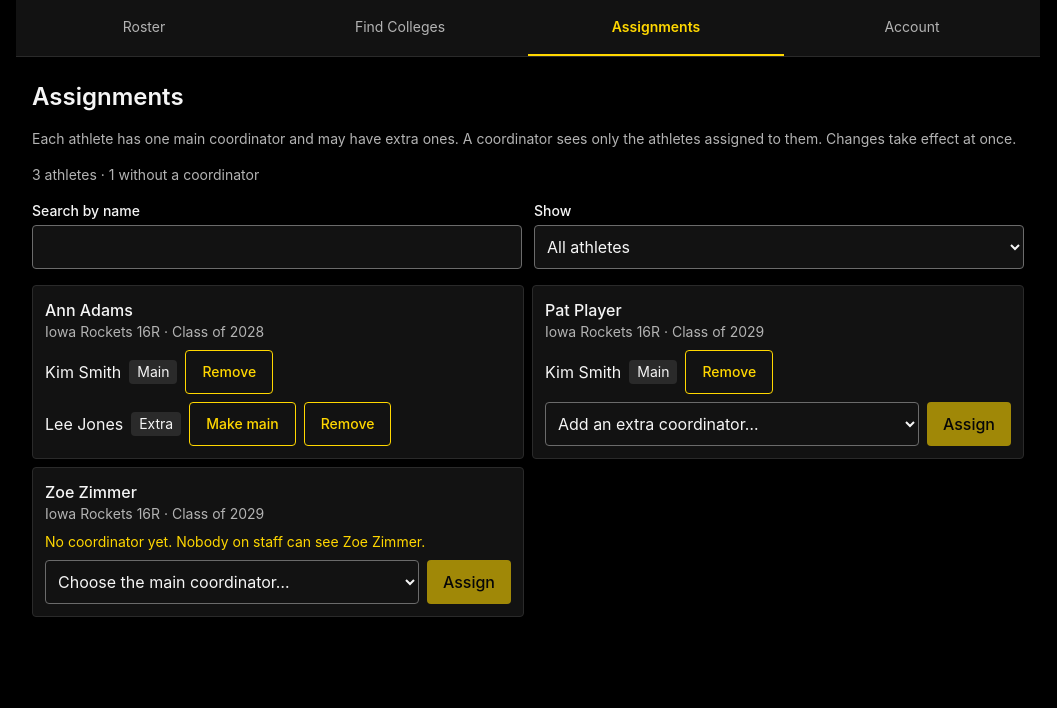
Test: Assignments (administrator) › shows a friendly message when the database refuses, and leaves the screen as it was
expect the list named "Athletes" is shown: met, box x1=32 y1=285 x2=1024 y2=617
Select "Kim Smith" in the dropdown named "Add a coordinator for Zoe Zimmer": (232, 582) x1=45 y1=560 x2=419 y2=604
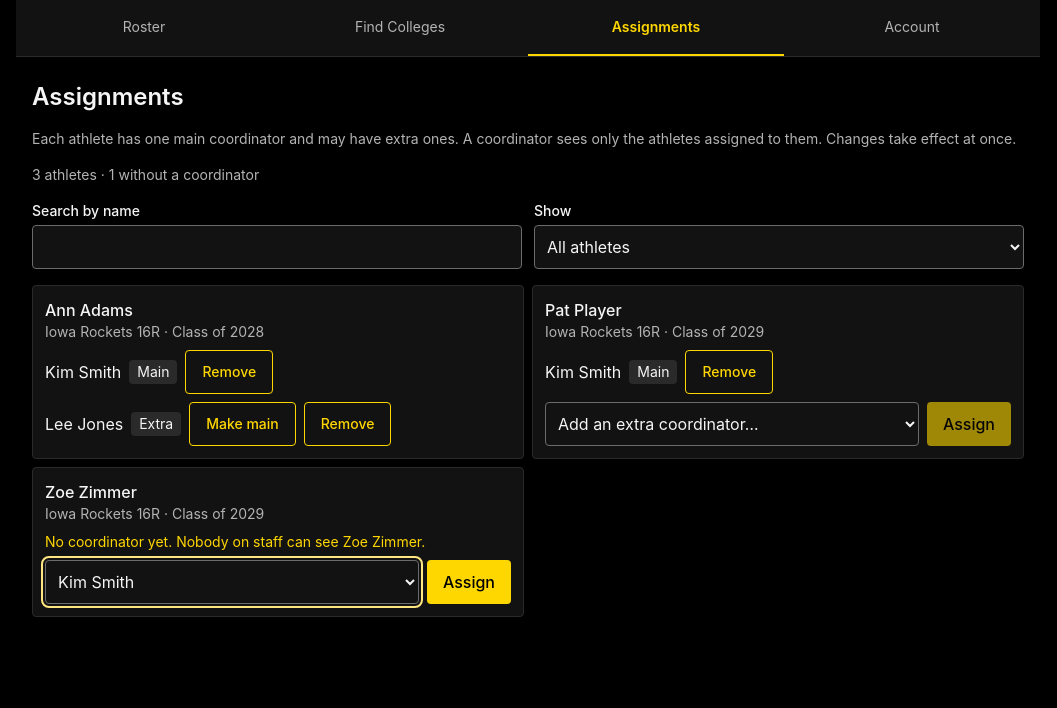
Click the button with aria-label "Assign to Zoe Zimmer": (469, 582) x1=427 y1=560 x2=511 y2=604
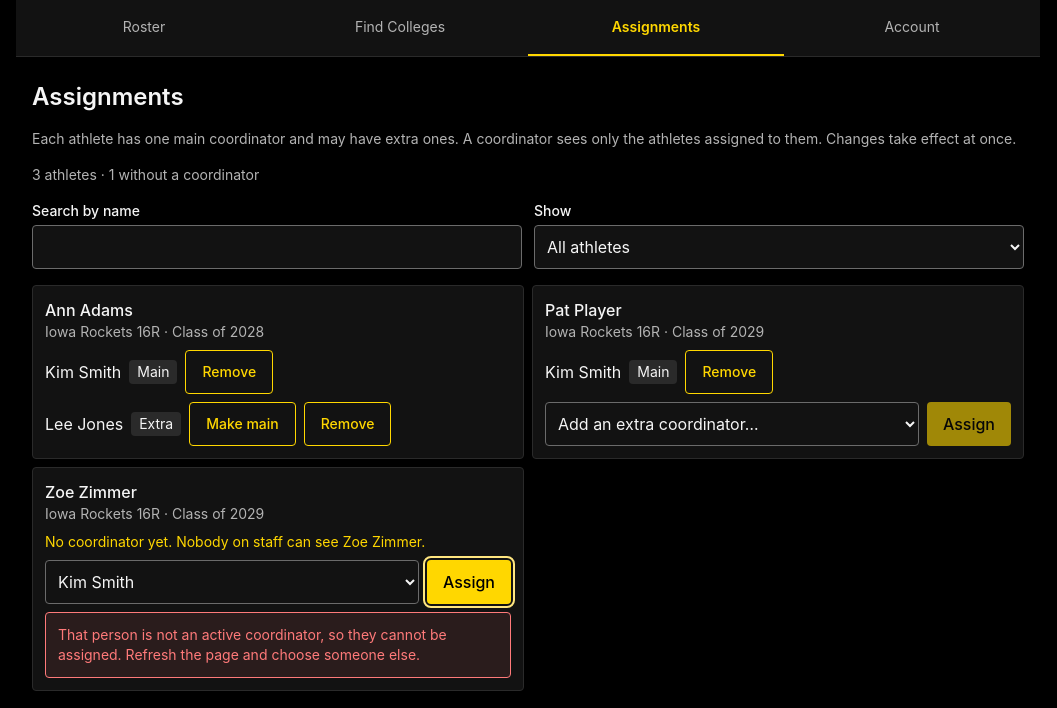
expect the list item "Zoe Zimmer" shows "No coordinator yet": met, box x1=45 y1=533 x2=343 y2=550
expect the 2nd message shows "That person is not an active coordinator, so they cannot be assigned": met, box x1=58 y1=626 x2=447 y2=663
